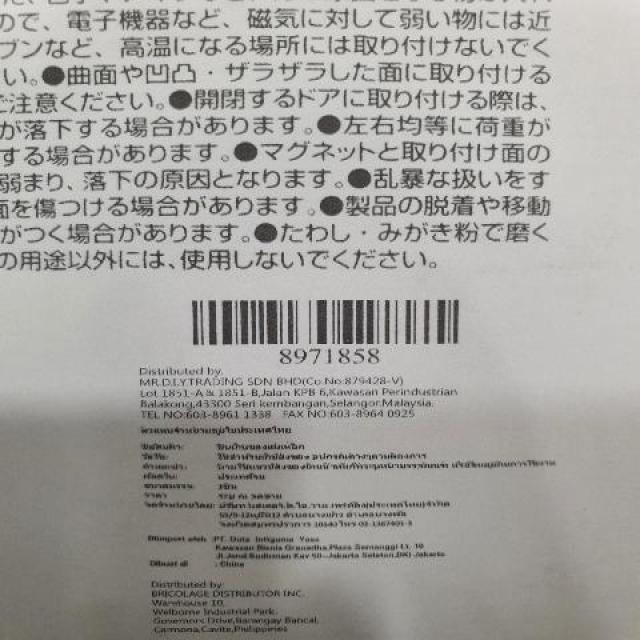Barcode: (172, 288, 477, 368)
